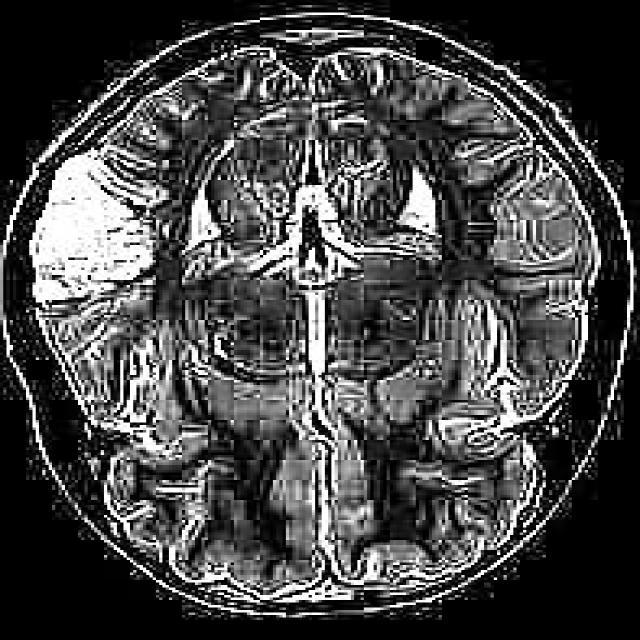brain tumor: (32, 145, 159, 308)
